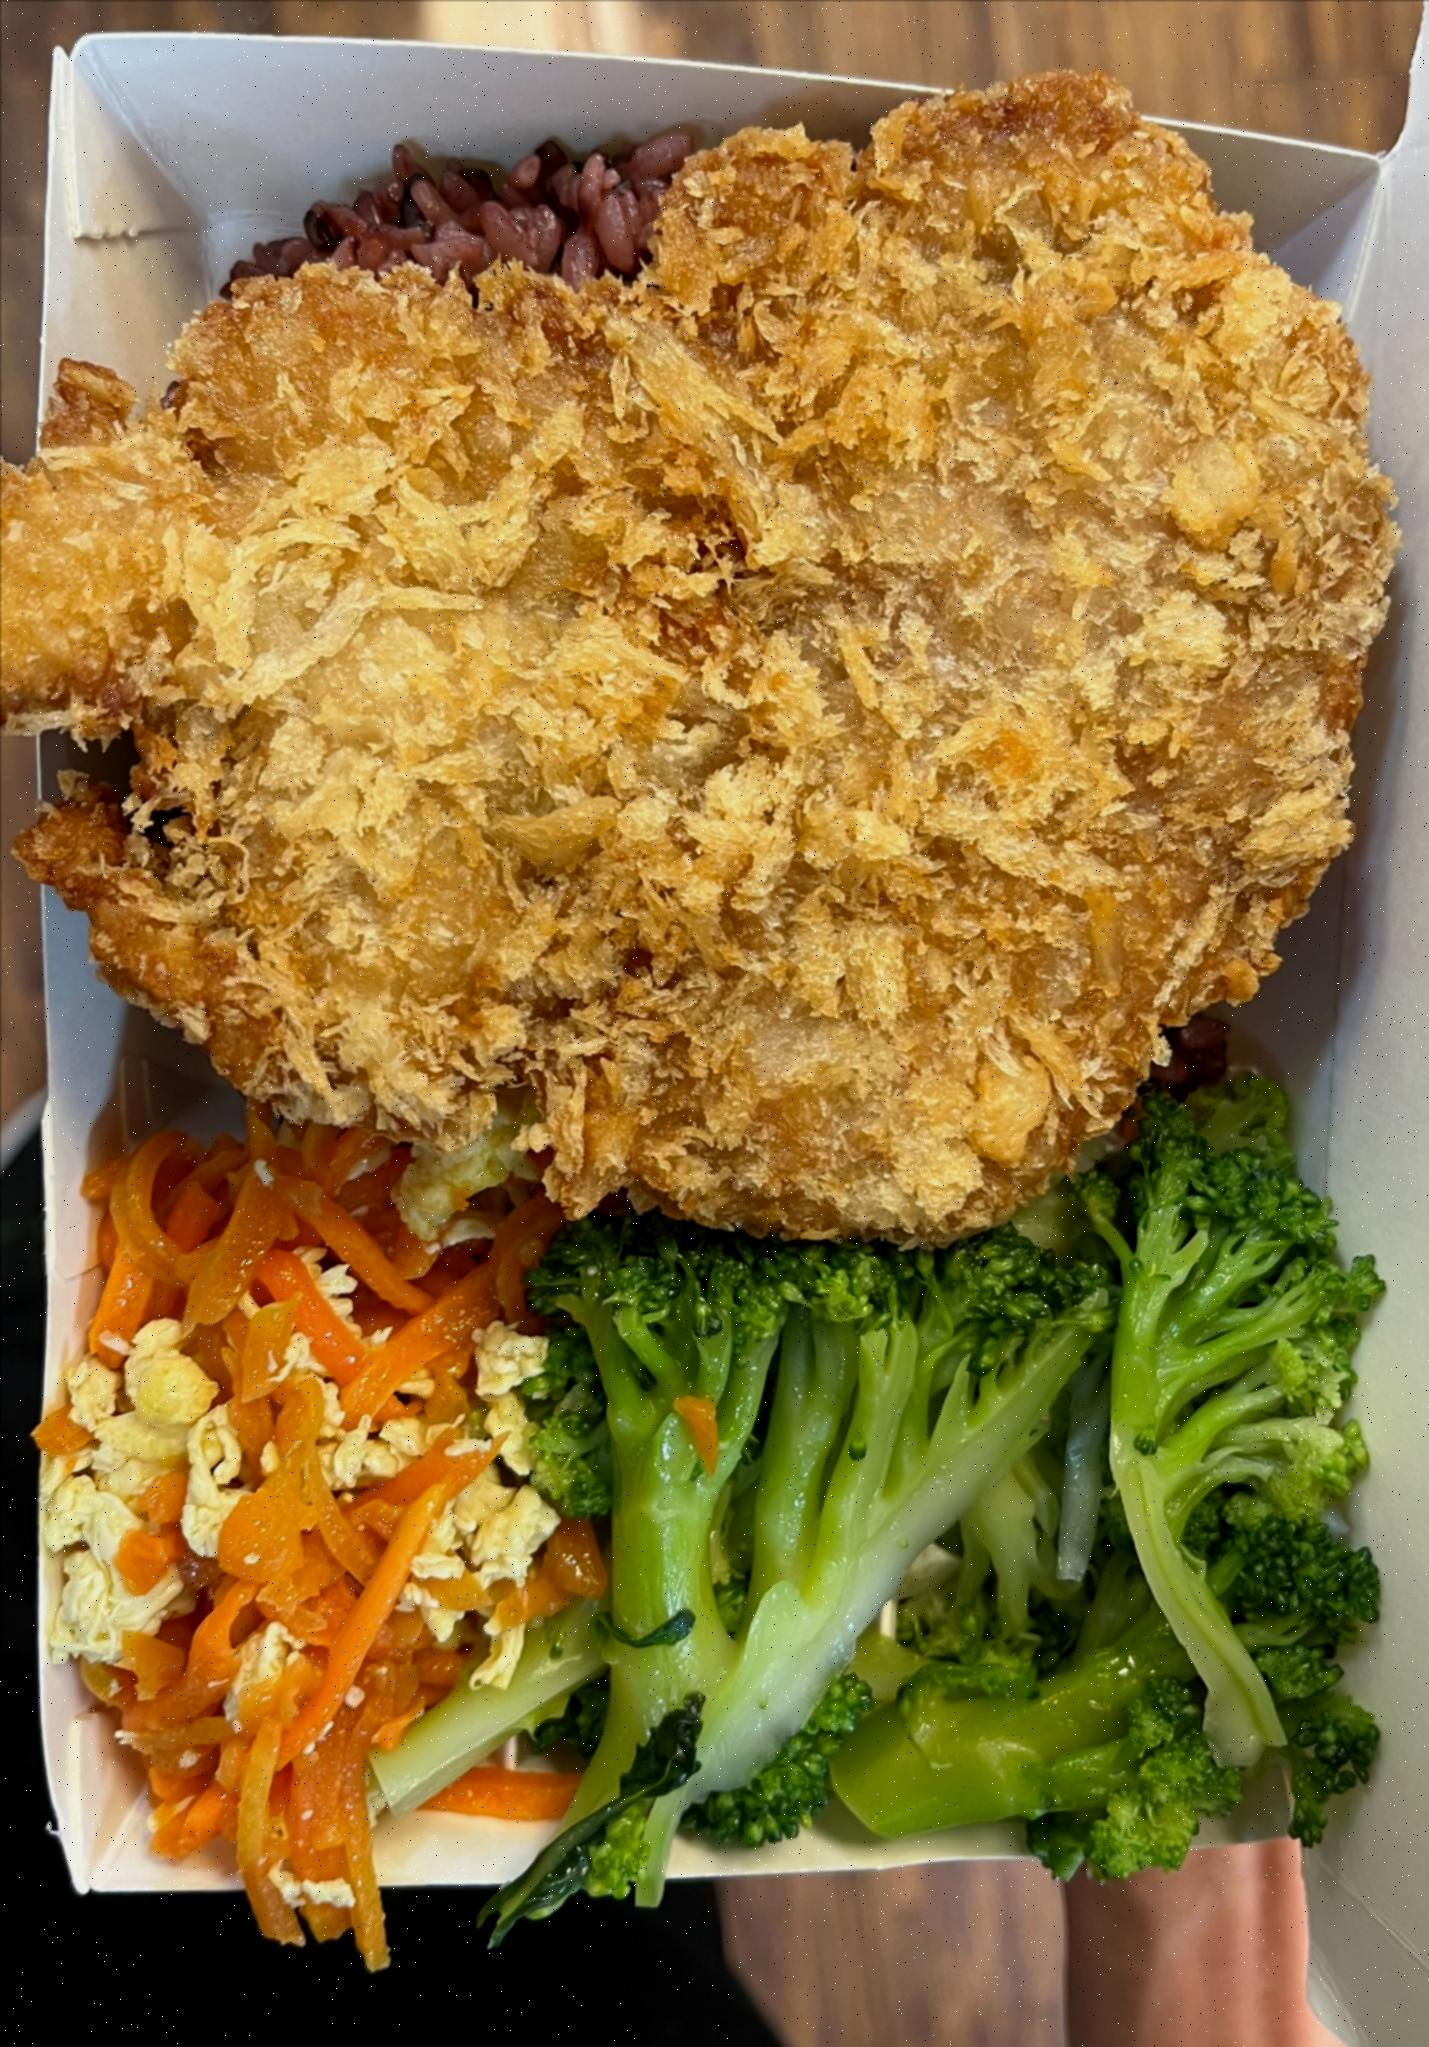box: (37, 2, 1429, 1965)
fried pork chops: (8, 62, 1387, 1241)
purple rice: (140, 140, 1278, 1073)
side dish: (536, 1137, 1387, 1839), (79, 1092, 550, 1839)
